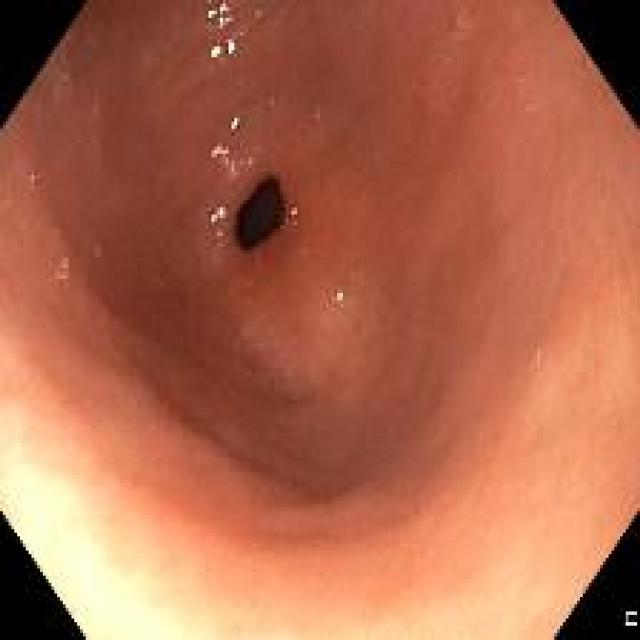bubbles: (333, 287, 350, 308), (285, 205, 300, 227), (520, 98, 539, 114), (444, 47, 458, 65), (513, 74, 527, 90)
contrast: (233, 176, 285, 250)
saturation: (175, 488, 530, 638), (0, 344, 174, 638)
specularity: (210, 206, 225, 224), (209, 45, 223, 59), (226, 39, 236, 55), (217, 15, 230, 26), (229, 114, 238, 127), (218, 4, 229, 14), (206, 8, 214, 18), (335, 290, 342, 301)
